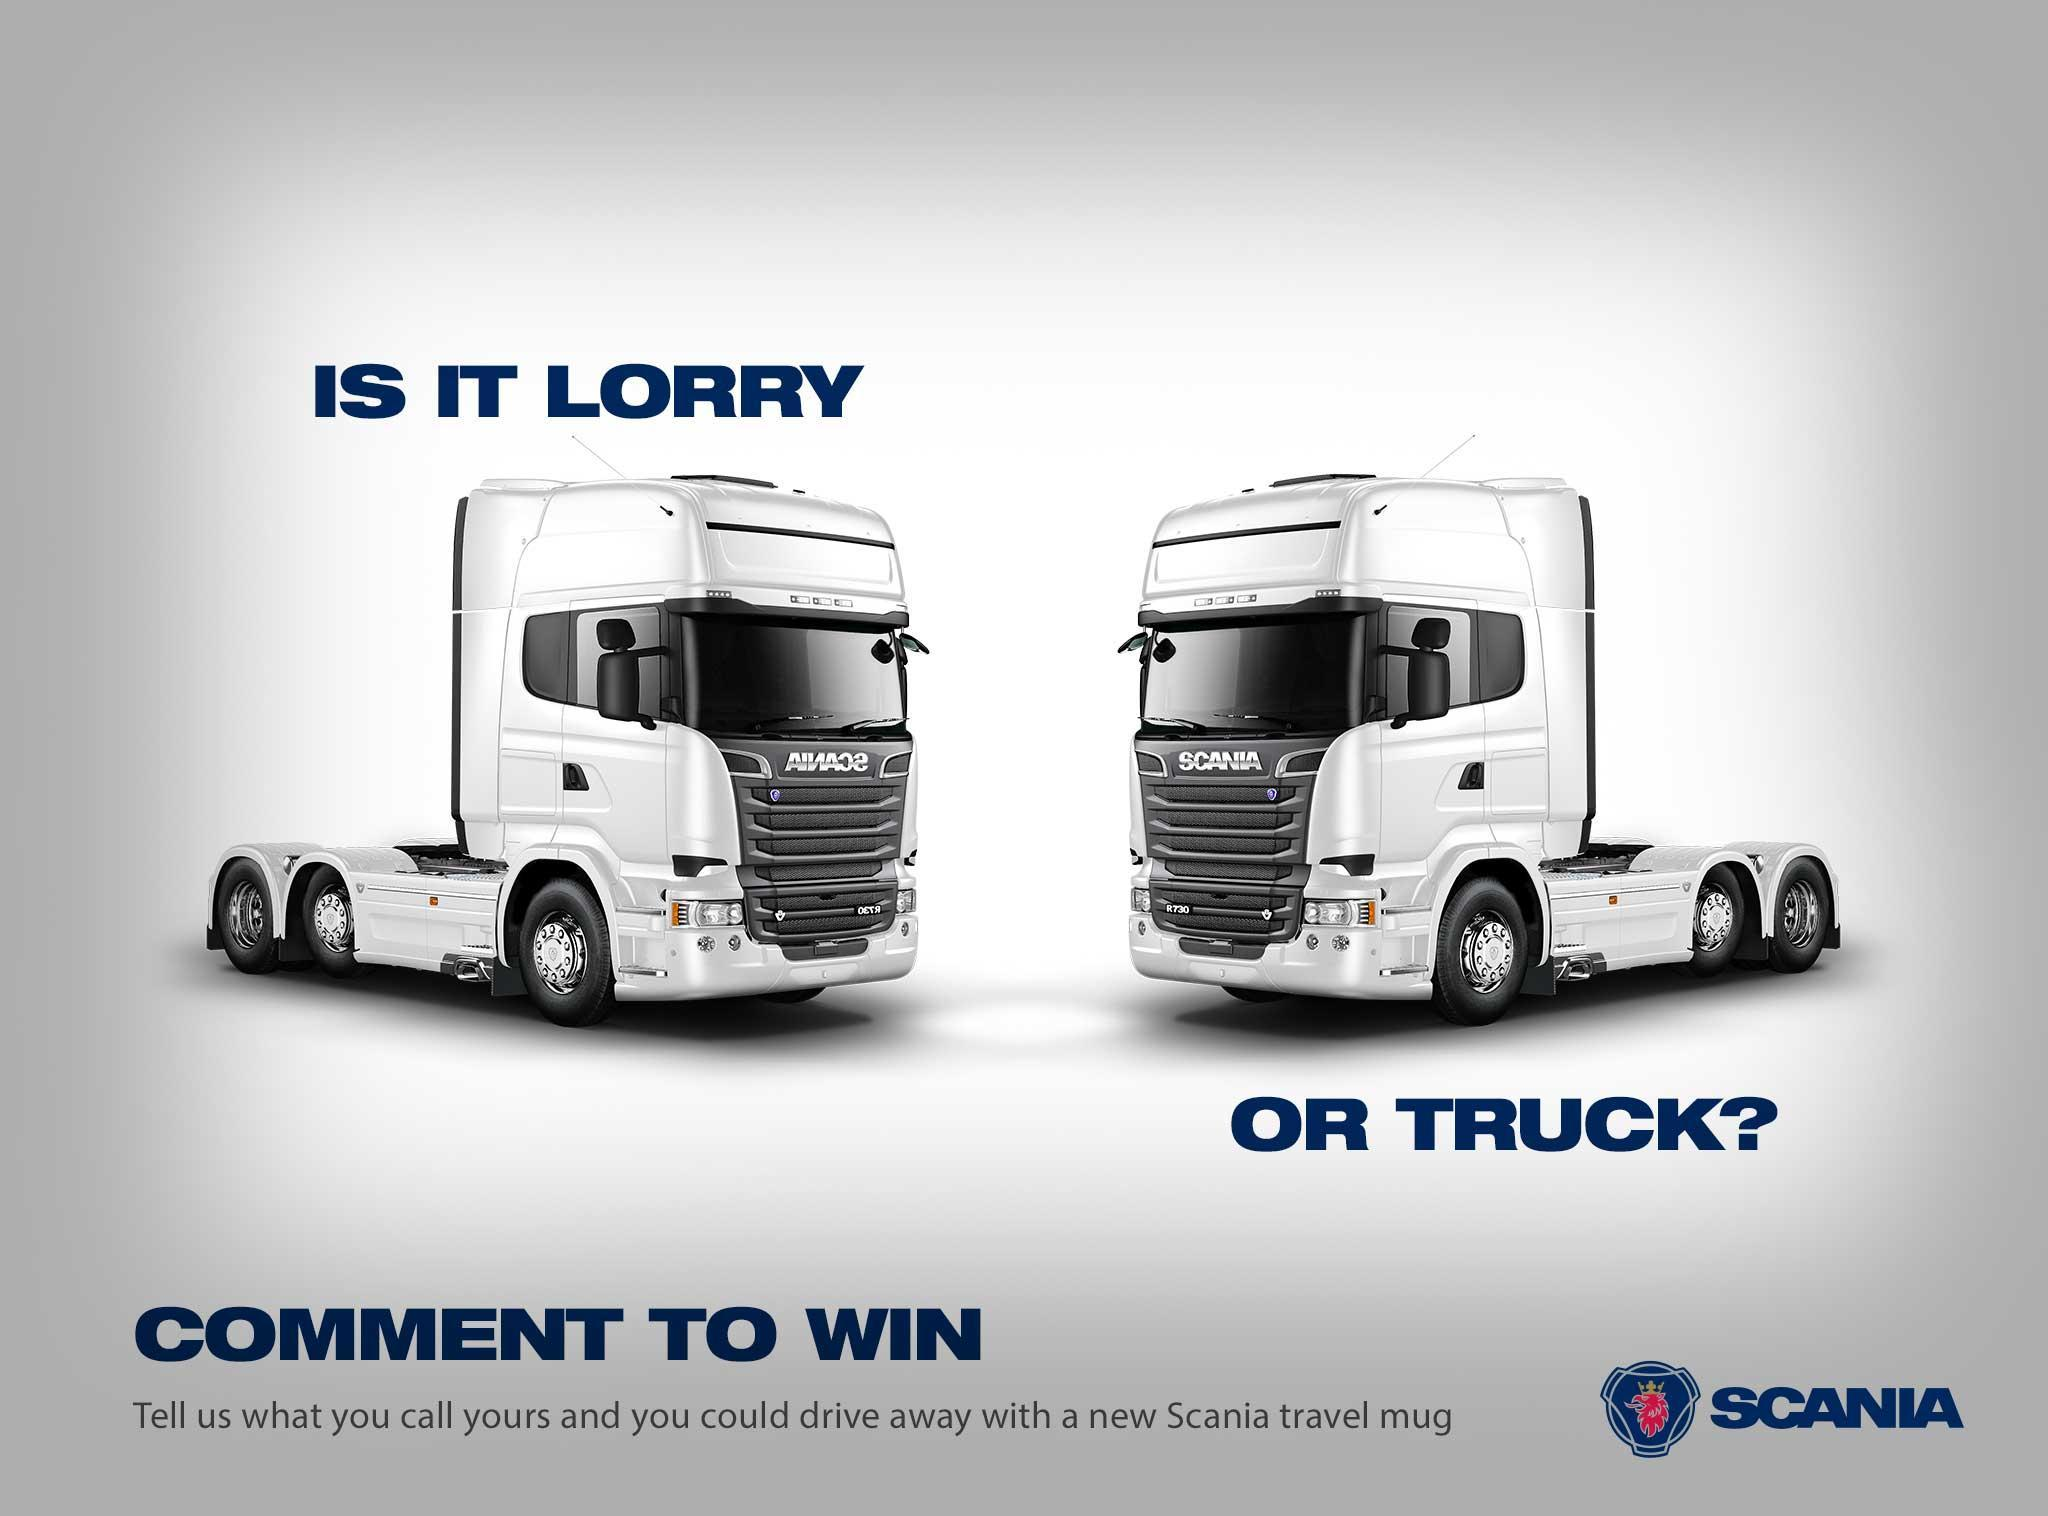truck: (1129, 471, 1843, 1029), (207, 473, 917, 1030)
